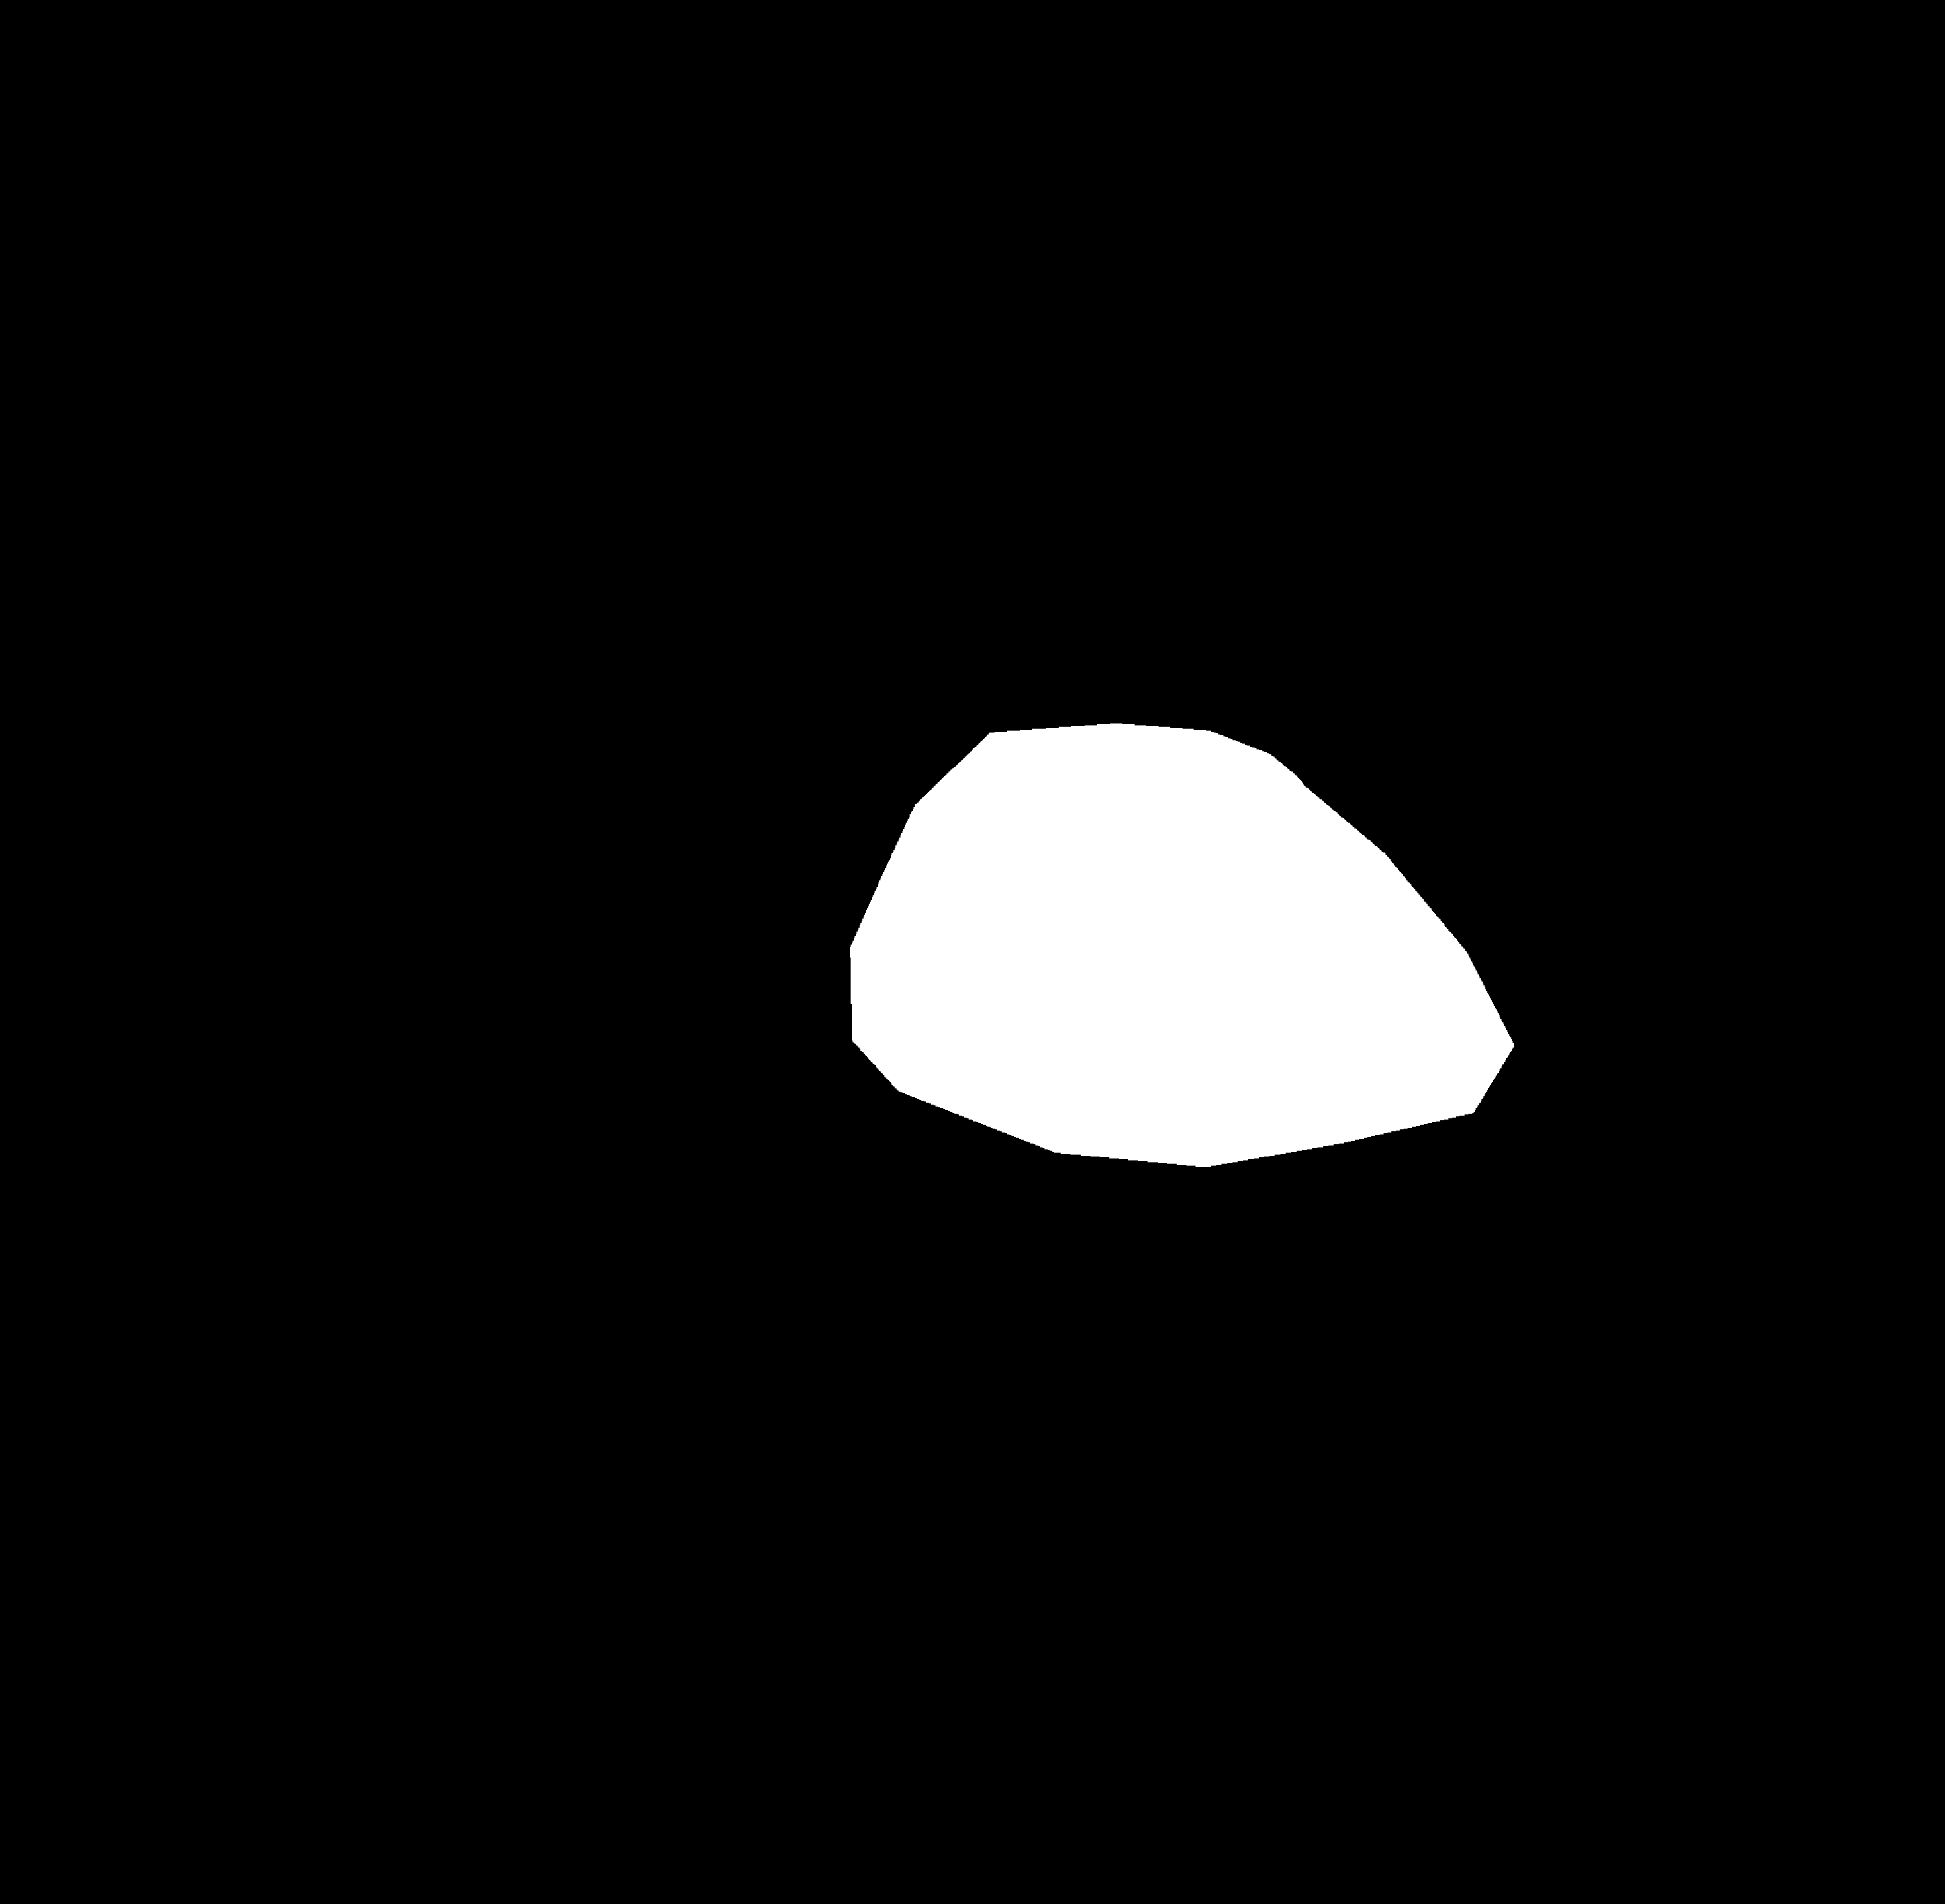heart: (851, 781, 1551, 1149)
left_lung: (283, 214, 993, 1142)
right_lung: (1113, 218, 1774, 1236)
